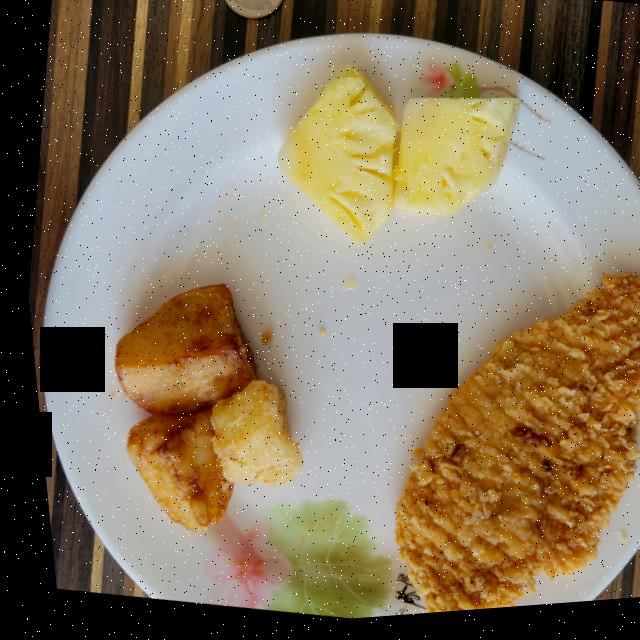coin: (223, 0, 282, 22)
fried chicken cutlet: (383, 281, 640, 619)
fried potato: (107, 287, 292, 534)
pineapple: (274, 69, 516, 249)
